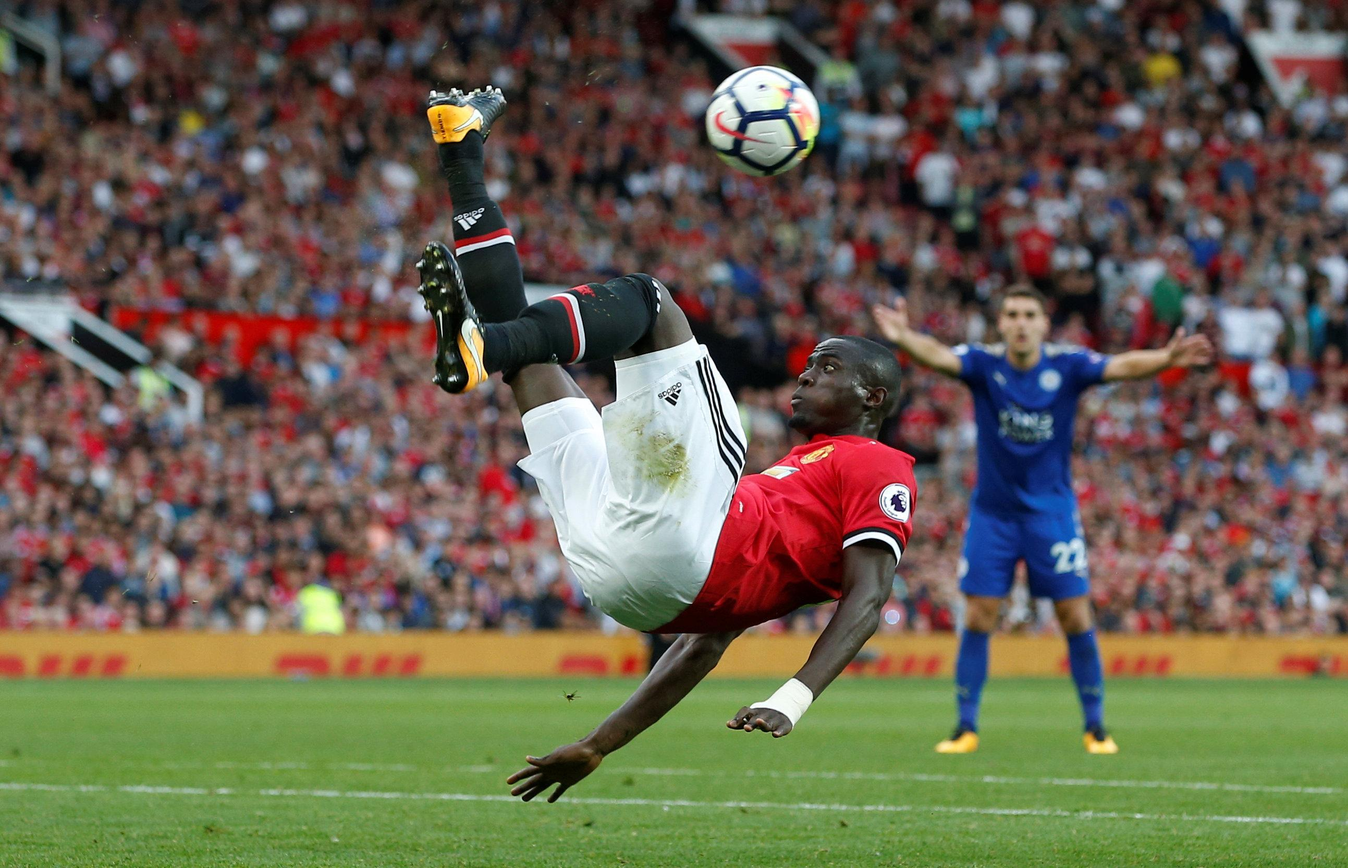ballon_football: (702, 64, 822, 180)
